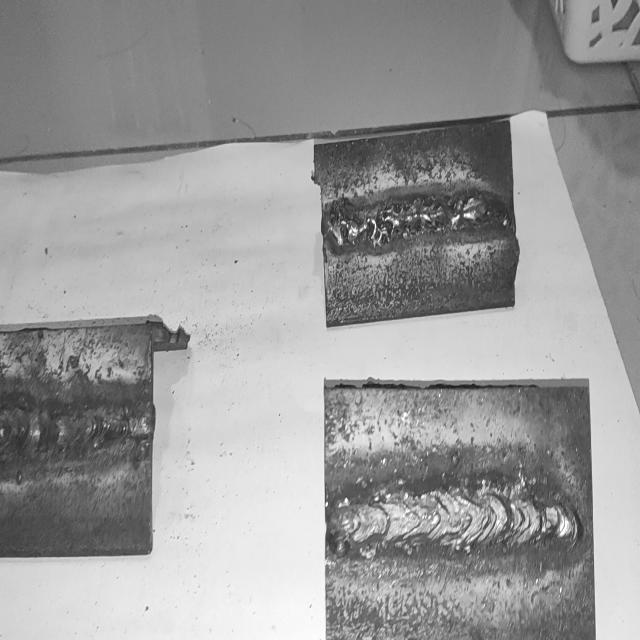Bad Weld: (322, 188, 512, 254)
Defect: (328, 191, 471, 247)
Good Weld: (328, 491, 582, 549), (0, 405, 152, 459)
